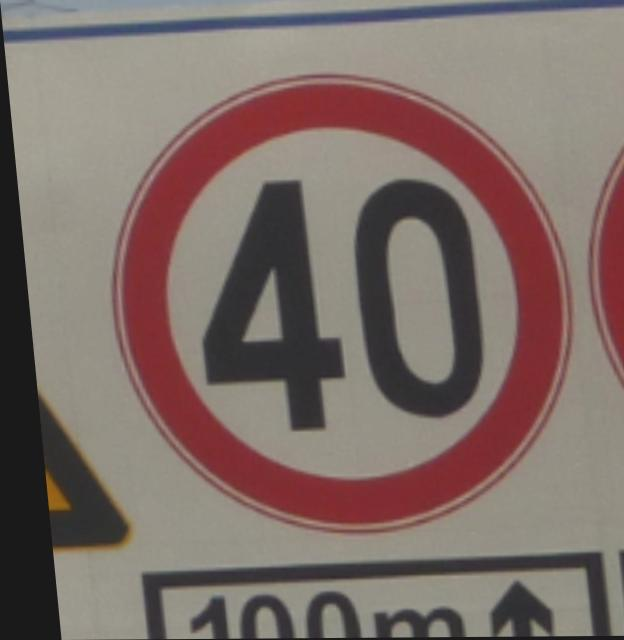limit40: (78, 63, 592, 541)
